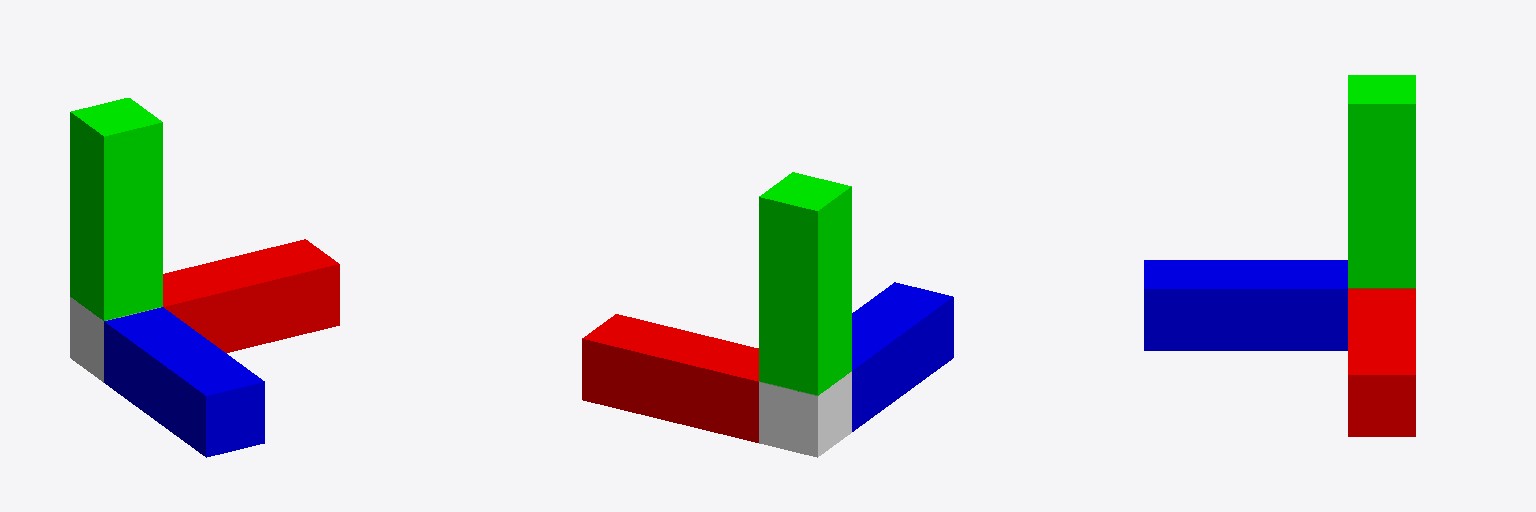
3 views of the same model, side by side, from view 1: azimuth 30°, elevation 25°; view 2: azimuth 150°, elevation 25°; view 3: azimuth 270°, elevation 25° (orthographic).
Bounding box in the file's own units: 120 × 120 × 120.
Materials: 1 (1 with a texture image).